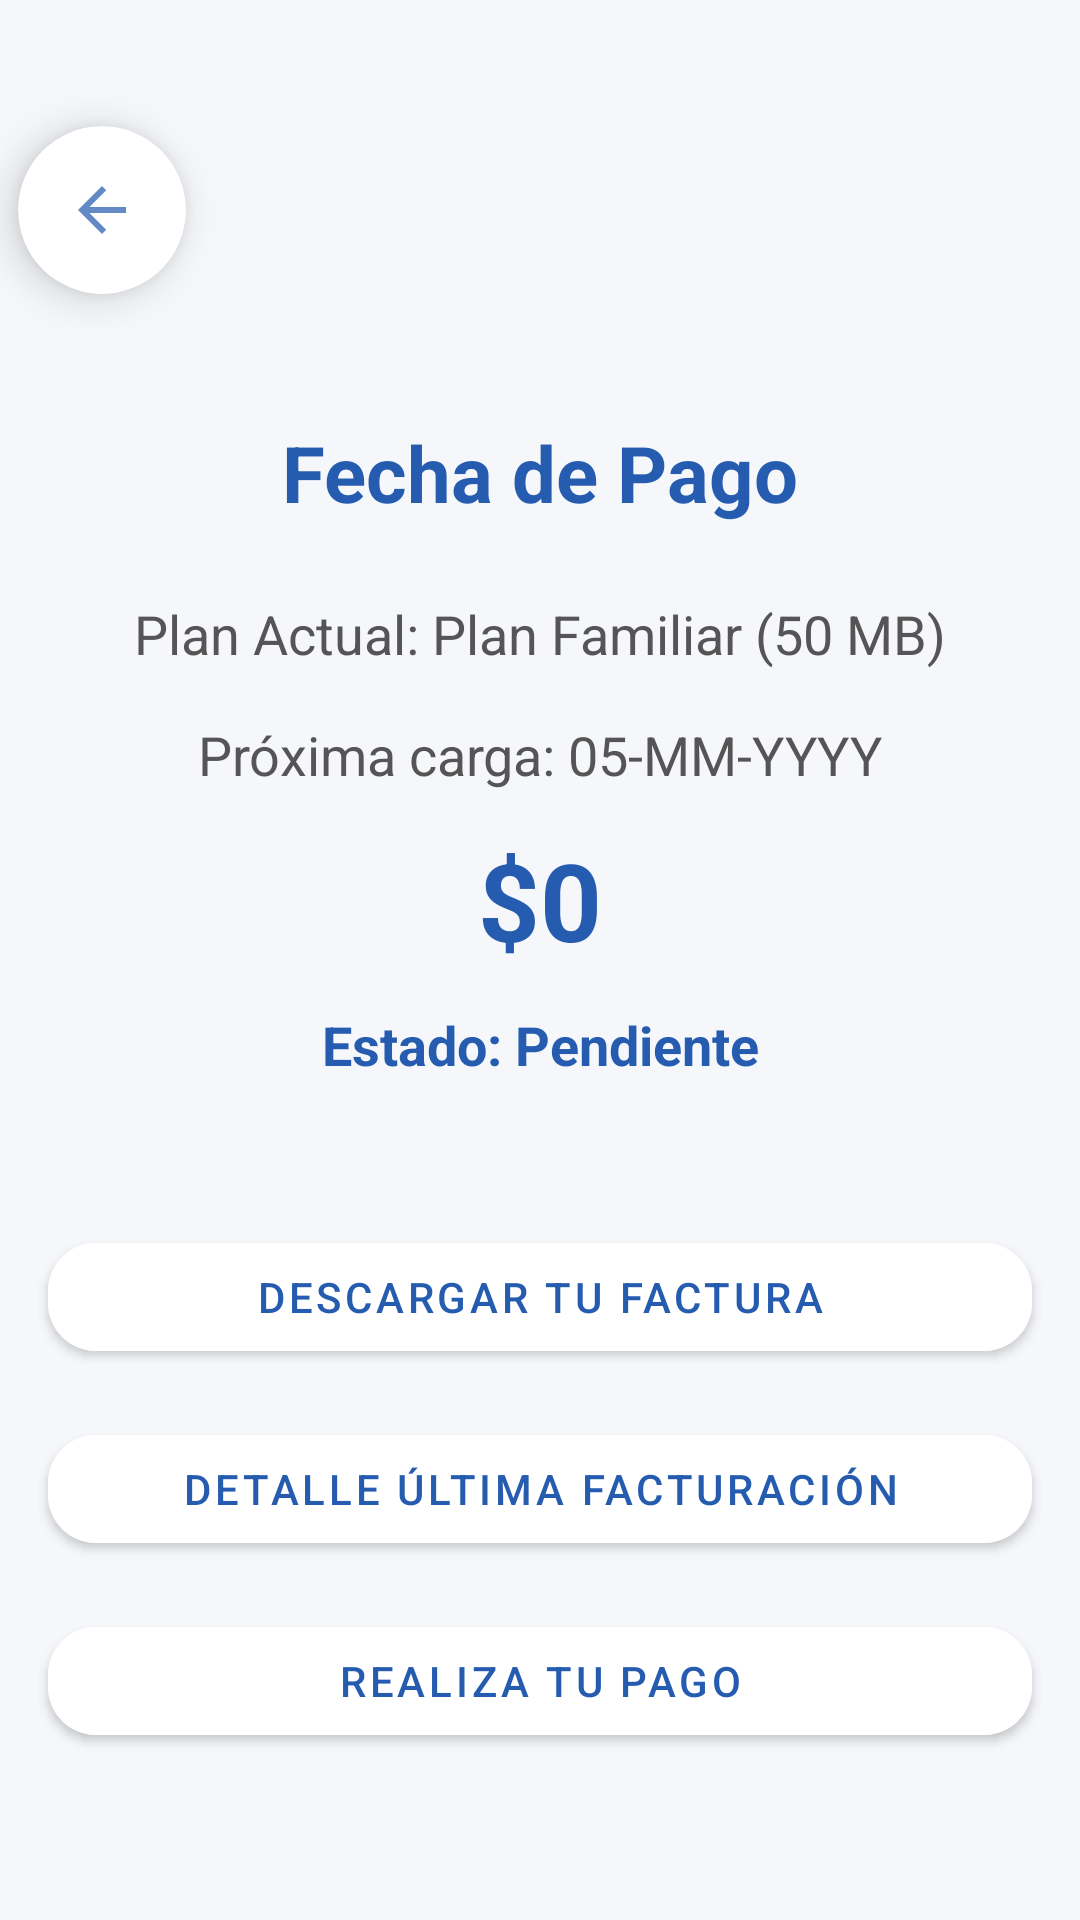

Point at icon controls on the screen. Image size 1080px x 1920px, points as point (x, y).
Atrás: point (102, 210)
